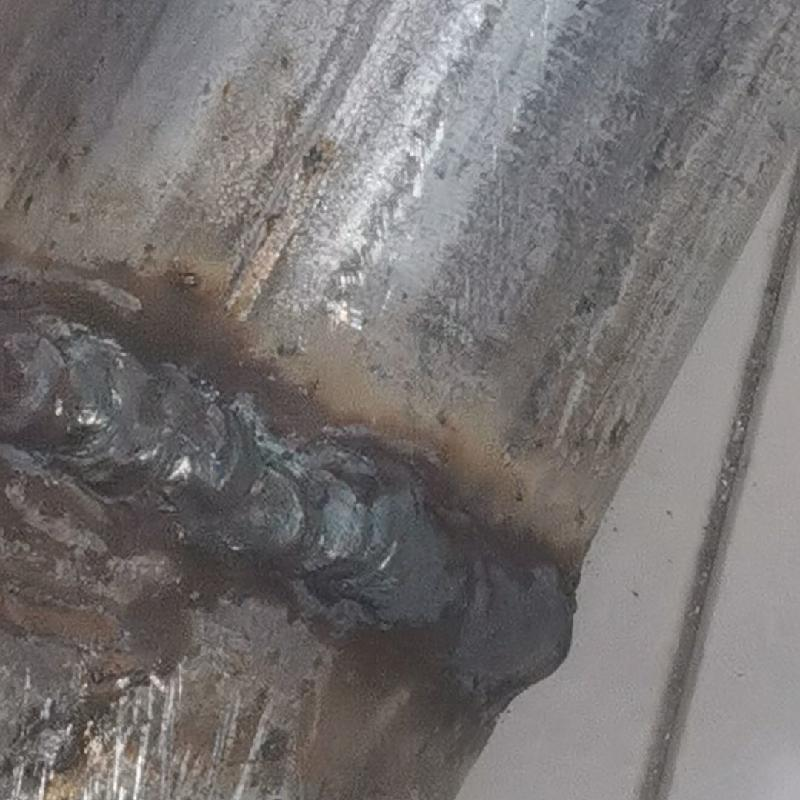good: (1, 296, 575, 699)
